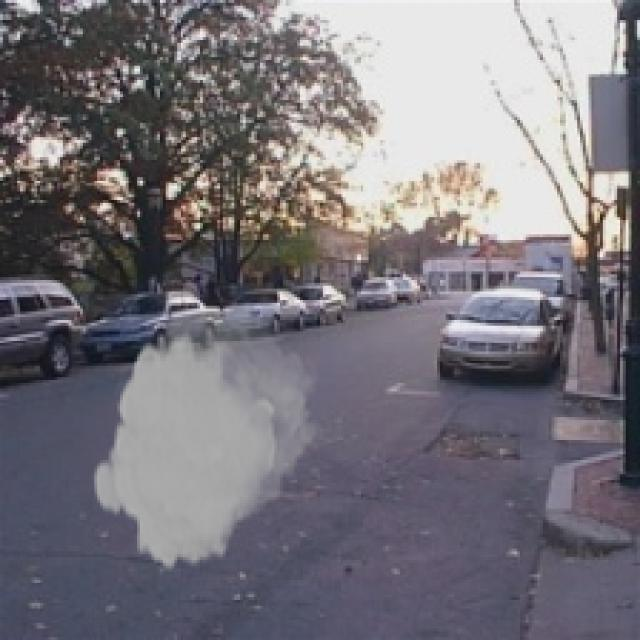Smoke: (91, 312, 326, 574)
